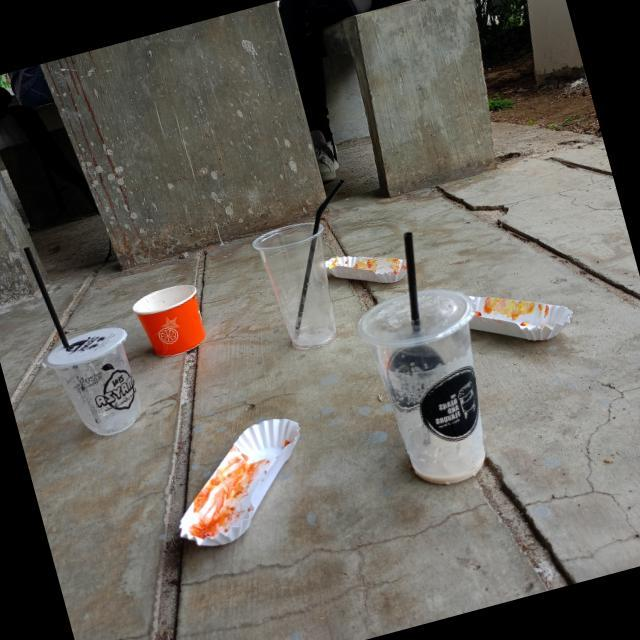recyclable waste: (334, 256, 536, 515), (136, 390, 338, 576), (226, 194, 366, 372), (22, 300, 168, 461), (454, 246, 594, 382), (119, 266, 225, 373), (306, 222, 428, 310)
